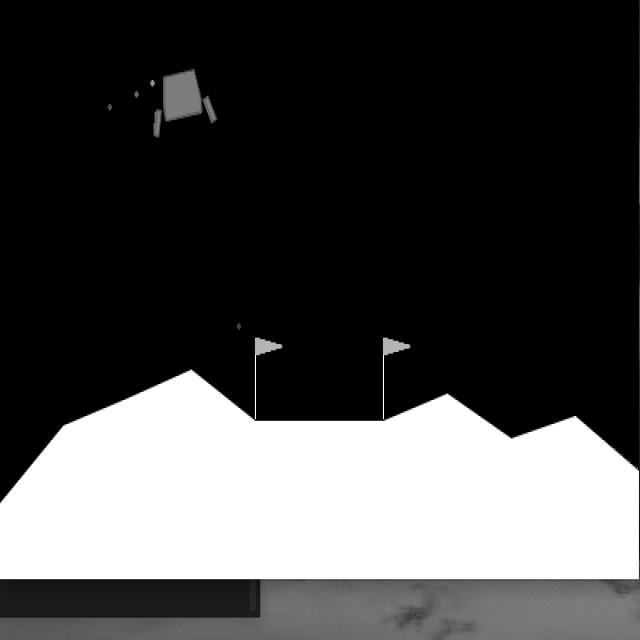lander: (139, 65, 220, 139)
landing_point: (256, 335, 386, 420)
